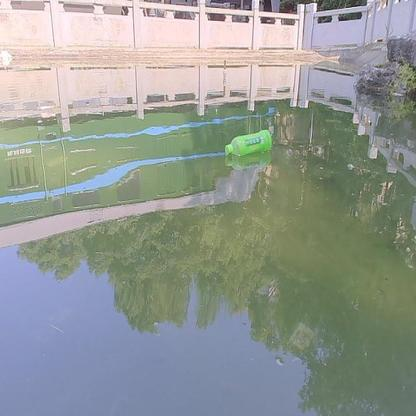plastic bottle: (225, 129, 273, 154)
